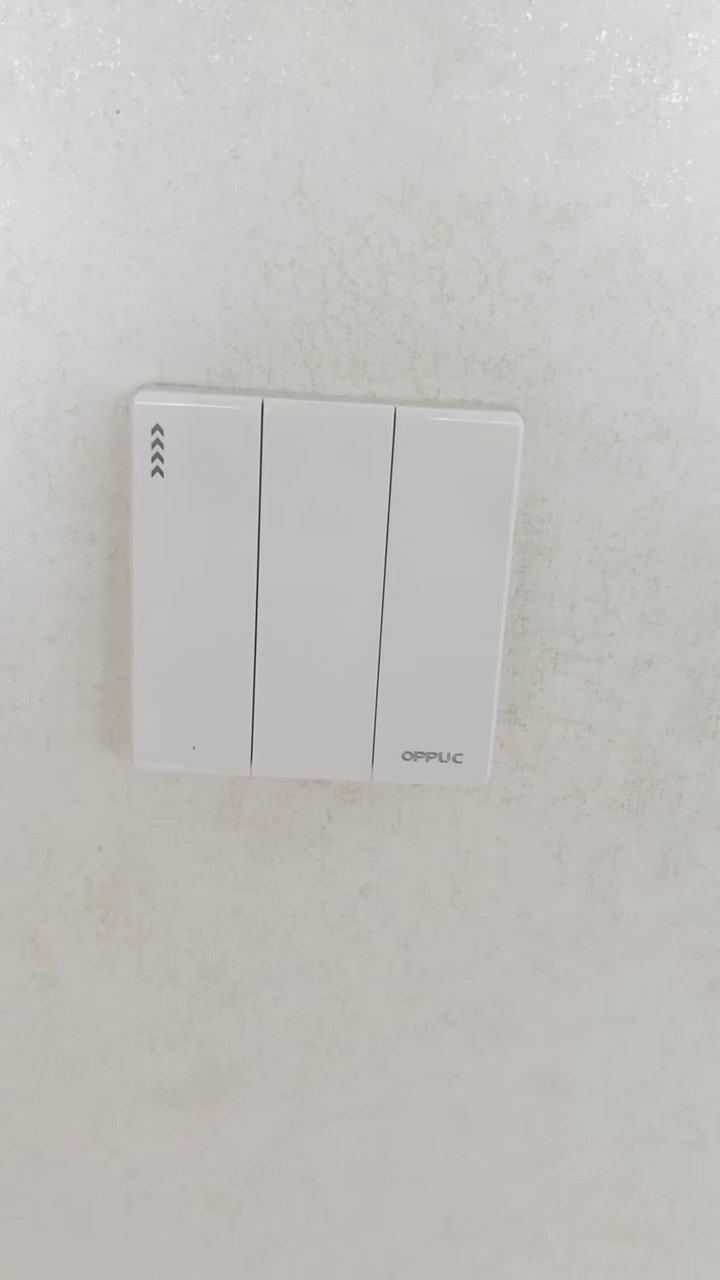button1: (252, 402, 389, 782), (374, 411, 512, 781), (127, 395, 256, 773)
